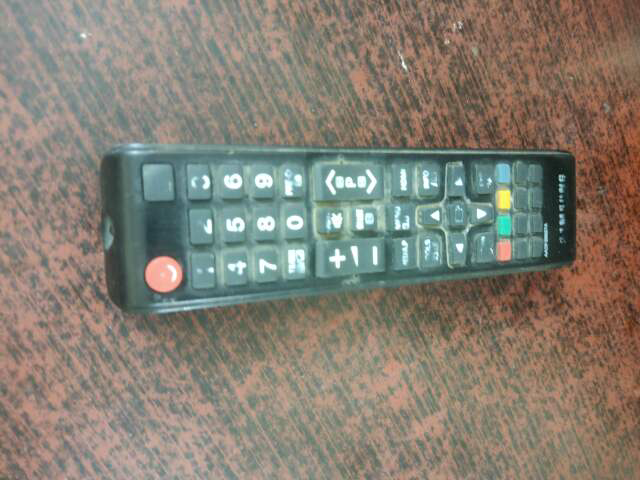remote: (91, 138, 597, 317)
